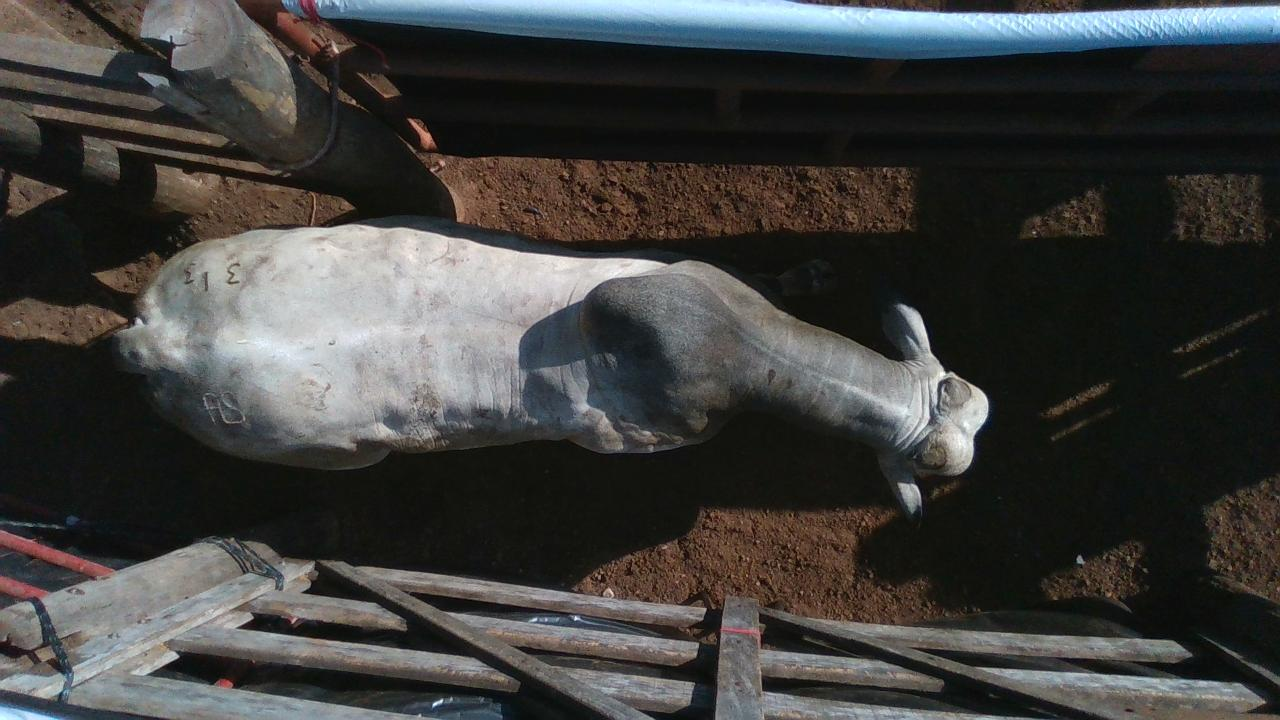cattle: (110, 213, 991, 530)
